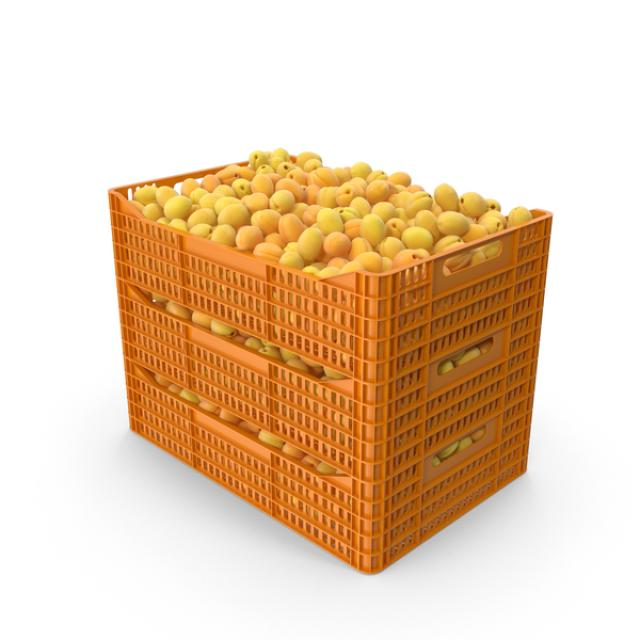basket: (74, 131, 558, 588)
